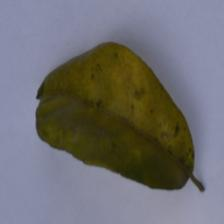greening: (59, 26, 184, 149)
